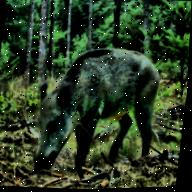boar: (3, 24, 184, 184)
